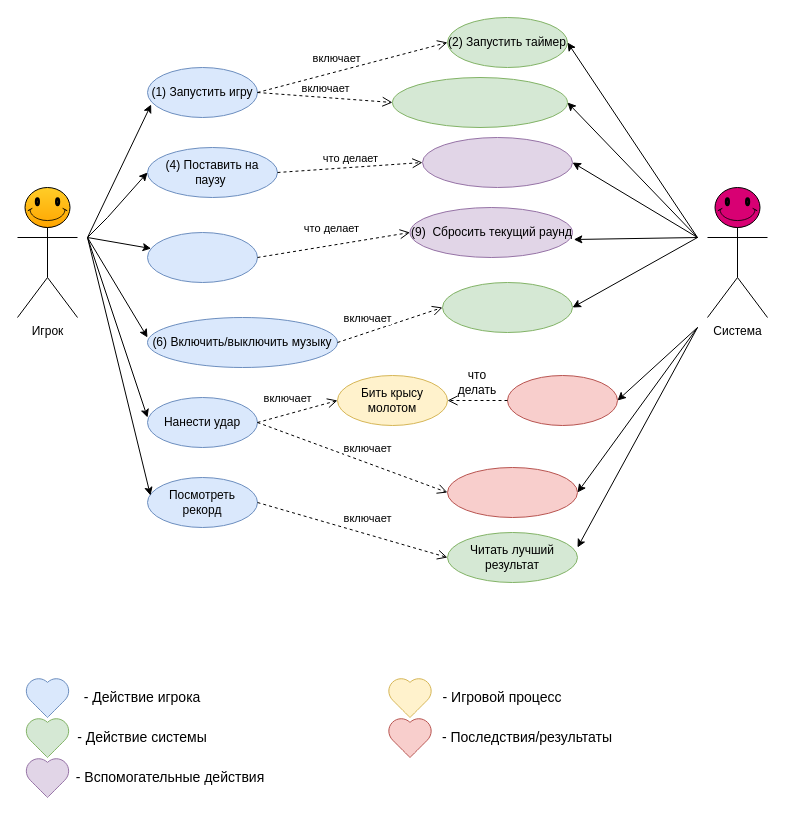
The diagram is 785 pixels wide and 815 high, and some of its shapes have lost their labels. Each missing label, with the box of its shape:
(10) Начать заново: (146, 232, 258, 282)
(3) Появление крыс из норок: (392, 76, 568, 128)
(5) Приостановить игру: (422, 136, 572, 188)
(7) Управление звуком: (442, 282, 572, 332)
Промах (потеря жизни): (446, 466, 578, 518)
Увеличить счет: (506, 374, 618, 426)
